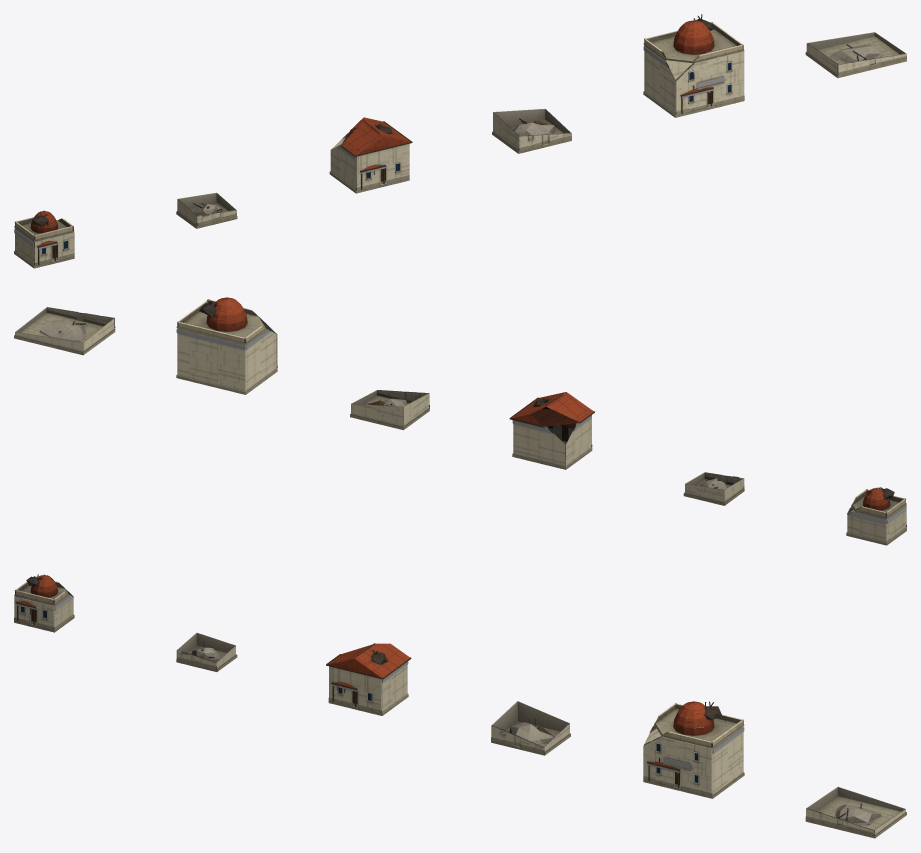
The model's file is gunpowder-israelite-houses-damage.glb.
3 renders of one model, top to bottom at view 1: azimuth 30°, elevation 25°; view 2: azimuth 150°, elevation 25°; view 3: azimuth 330°, elevation 25°, orthographic.
Parts seen in each view (by area): view 1: LOD0.004, LOD0.002, LOD0.005, LOD0, LOD0.003, LOD0.001; view 2: LOD0.004, LOD0.002, LOD0.005, LOD0, LOD0.003, LOD0.001; view 3: LOD0.004, LOD0.002, LOD0.005, LOD0.003, LOD0, LOD0.001.
Boxes of the visible parts, x1,y1,x2,y2 form: LOD0.004: [643, 14, 744, 117]; LOD0.002: [329, 117, 412, 193]; LOD0.005: [805, 32, 906, 78]; LOD0: [14, 210, 74, 268]; LOD0.003: [492, 109, 571, 153]; LOD0.001: [176, 192, 237, 228]; LOD0.004: [176, 297, 277, 394]; LOD0.002: [509, 392, 594, 469]; LOD0.005: [14, 307, 115, 355]; LOD0: [846, 487, 906, 545]; LOD0.003: [350, 390, 429, 430]; LOD0.001: [683, 472, 744, 505]; LOD0.004: [643, 701, 744, 798]; LOD0.002: [326, 643, 411, 715]; LOD0.005: [805, 787, 906, 838]; LOD0.003: [491, 701, 570, 755]; LOD0: [14, 574, 74, 632]; LOD0.001: [176, 633, 237, 671].
Size of what is drawn, in the model's own units: 16.02 by 1.37 by 1.06.
Materials: 2 (2 with a texture image).
